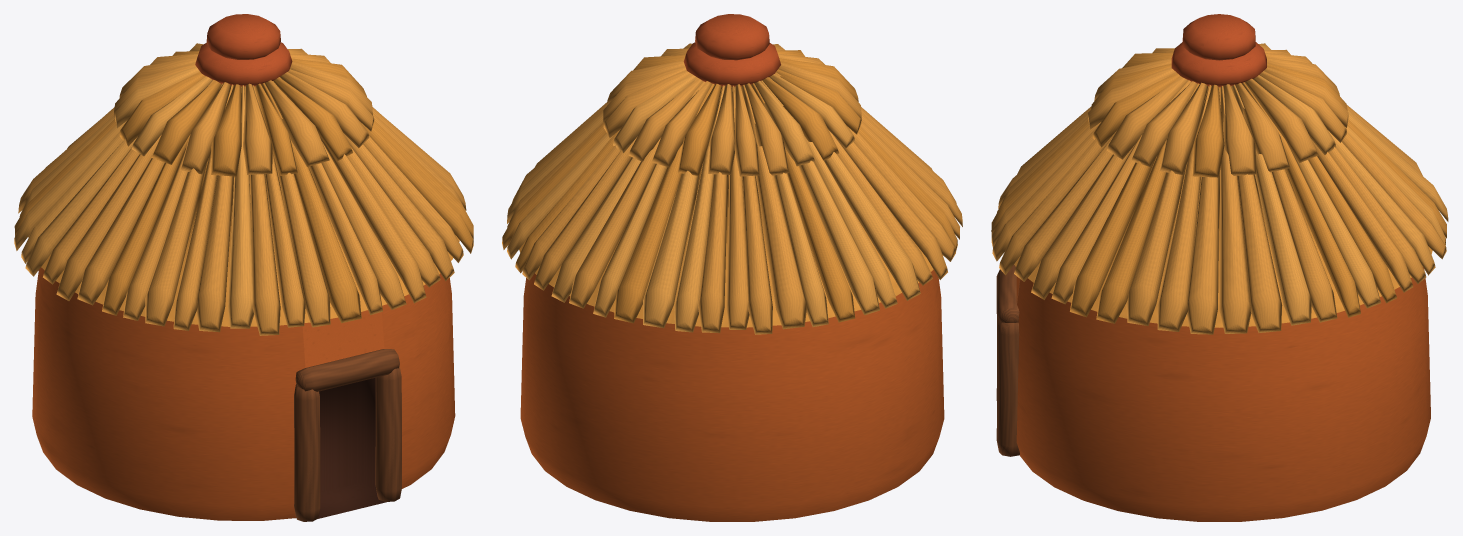
The model's file is hut_v2.glb.
3 views of the same model, side by side, from view 1: azimuth 30°, elevation 25°; view 2: azimuth 150°, elevation 25°; view 3: azimuth 270°, elevation 25° (orthographic).
Parts seen in each view (by area): view 1: HutV2; view 2: HutV2; view 3: HutV2.
Part boxes in pixels (bbox=[...]): HutV2: bbox=[14, 14, 473, 521]; HutV2: bbox=[502, 14, 962, 521]; HutV2: bbox=[991, 14, 1448, 521].
Size of the model in its own units: 2.82 by 2.8 by 2.8.
Materials: 1 (1 with a texture image).
